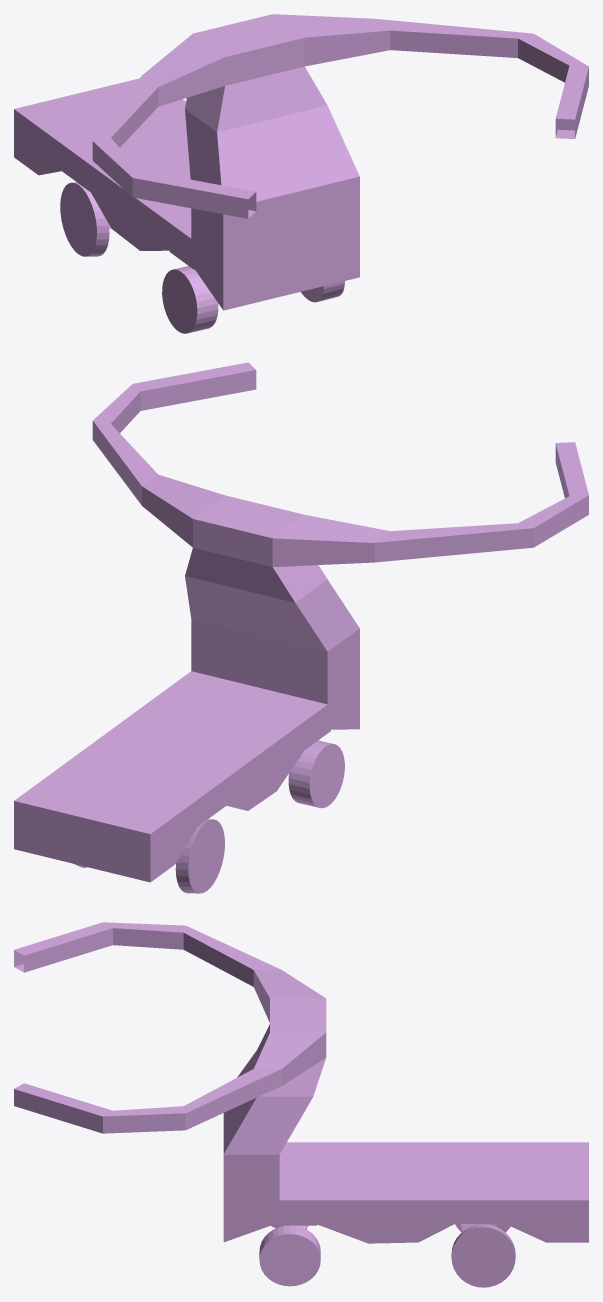
File: playtest-rover.glb
3 renders of one model, top to bottom at view 1: azimuth 30°, elevation 25°; view 2: azimuth 150°, elevation 25°; view 3: azimuth 270°, elevation 25°, orthographic. The views are drawn at different scales.
Visible parts, largest first — view 1: Cube; view 2: Cube; view 3: Cube.
Boxes of the visible parts, box(x1,y1,x2,y2) form: Cube: box(14, 14, 588, 333); Cube: box(14, 362, 588, 893); Cube: box(14, 922, 588, 1287).
Size of the model in its own units: 6.69 by 3.97 by 8.36.
